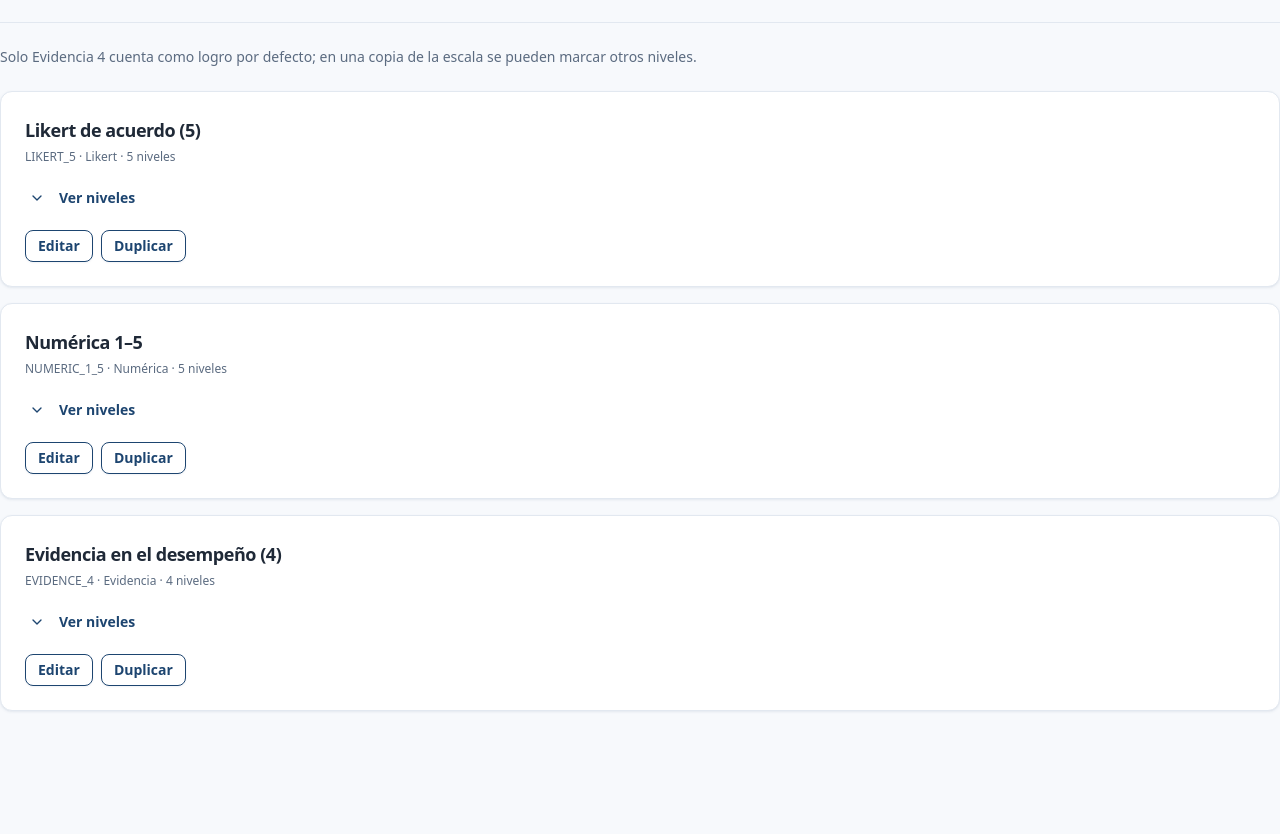
Test case: ResponseScalesPage Component (HU-012, T-012-17, CA1, CA2, CA3) › shows which levels count as achievement
This screenshot has width=1280, height=834.
Click the button "Ver niveles" below "EVIDENCE_4" at (82, 622), box [17,606,147,638]
(page scrolled)
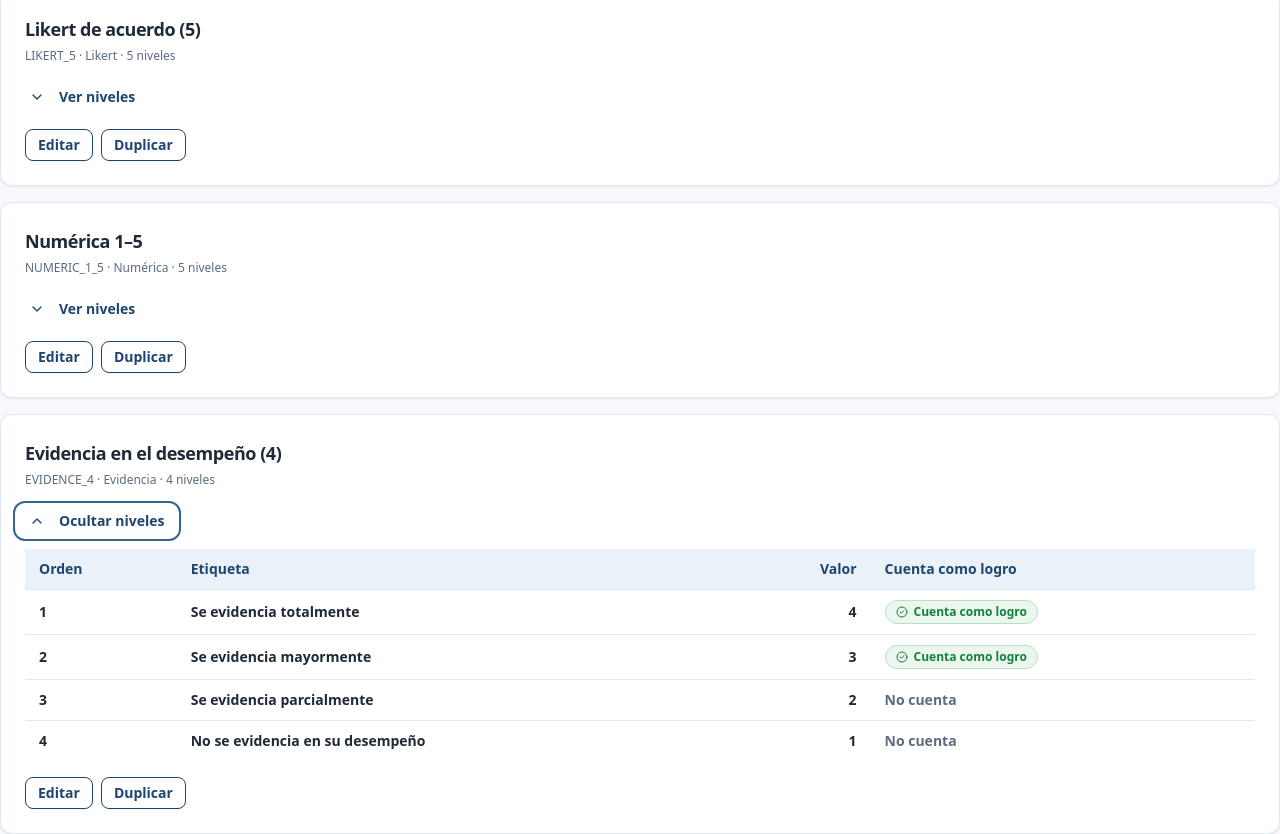
Expected: the text "Cuenta como logro" in the row of "Se evidencia totalmente" is shown, [914,602,1027,620]
Expected: the text "Cuenta como logro" in the row of "Se evidencia mayormente" is shown, [914,648,1027,664]
Expected: the text "No cuenta" in the row of "Se evidencia parcialmente" is shown, [884,690,957,708]
